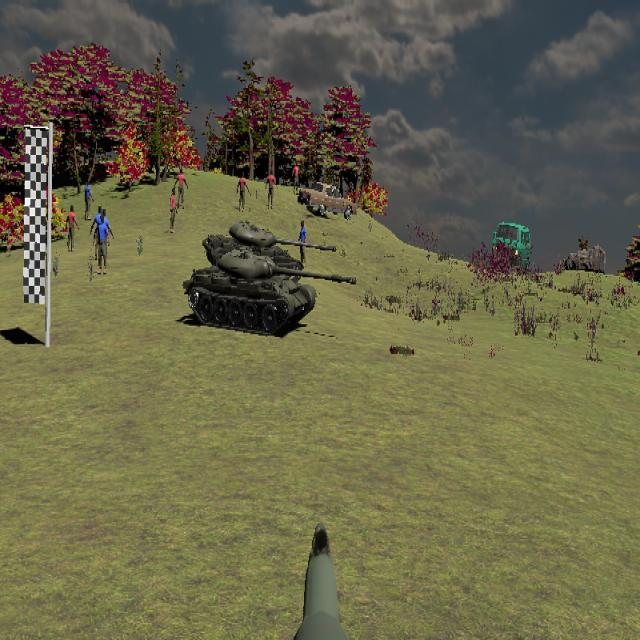Human: (93, 214, 111, 274), (64, 204, 79, 252)
Tank: (183, 248, 356, 335), (199, 220, 338, 283)
car: (297, 182, 355, 219), (492, 221, 531, 274)
